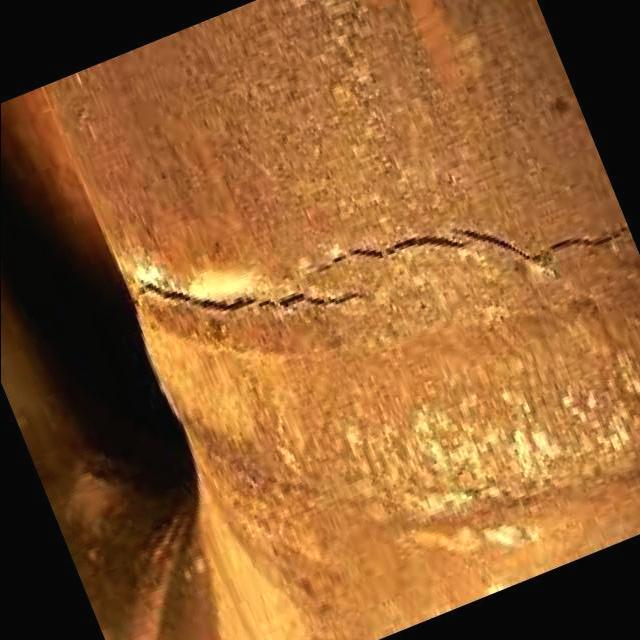defect: (303, 216, 633, 279), (129, 281, 384, 320)
